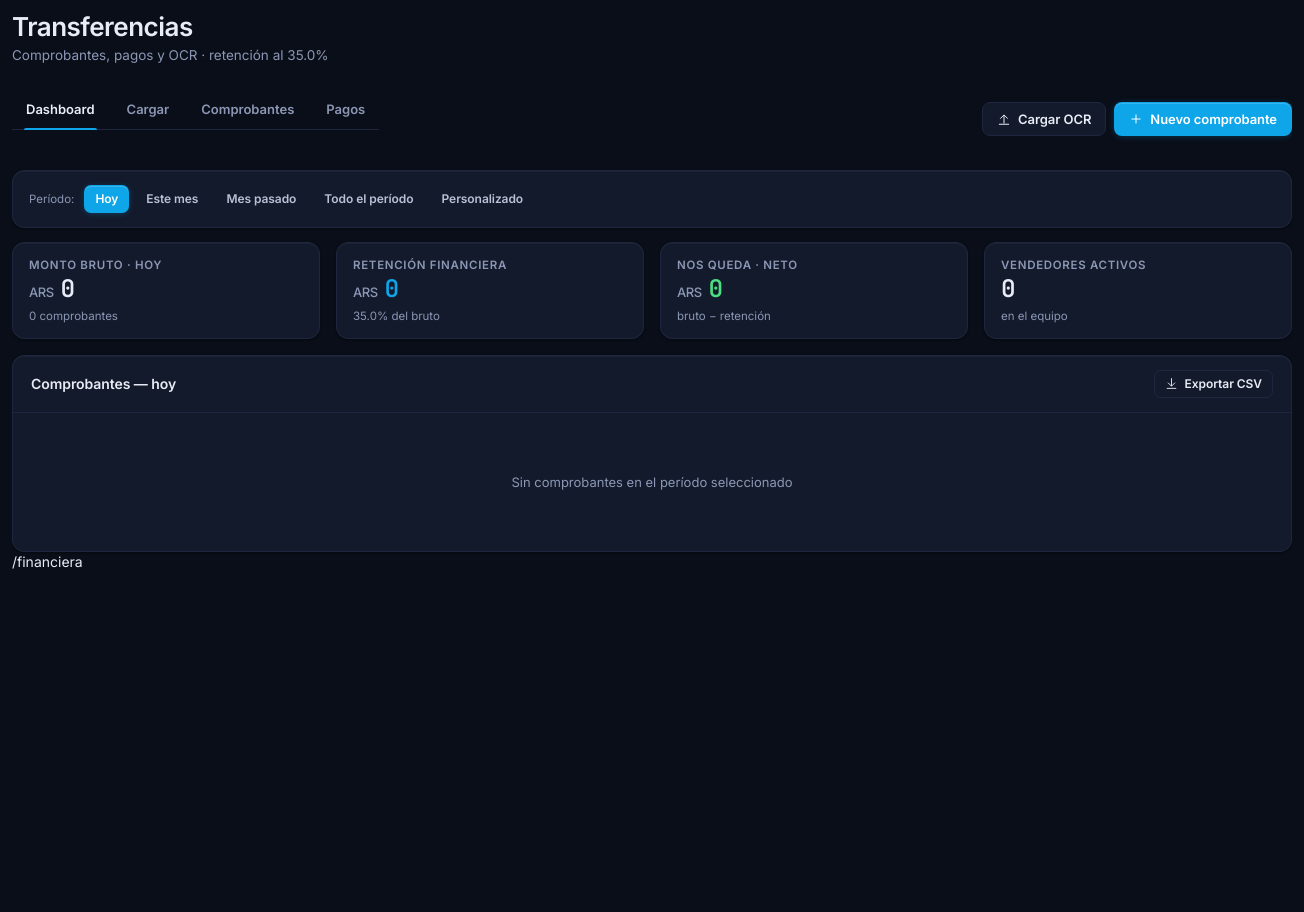
Test: Financiera — form Pagos (TANDAs 1-3 sprint USD) › F-09 — tab + filtros persisten en URL › cambiar a tab Pagos escribe ?tab=pagos en URL
Click the button "Pagos": (346, 109) [312,89,379,129]
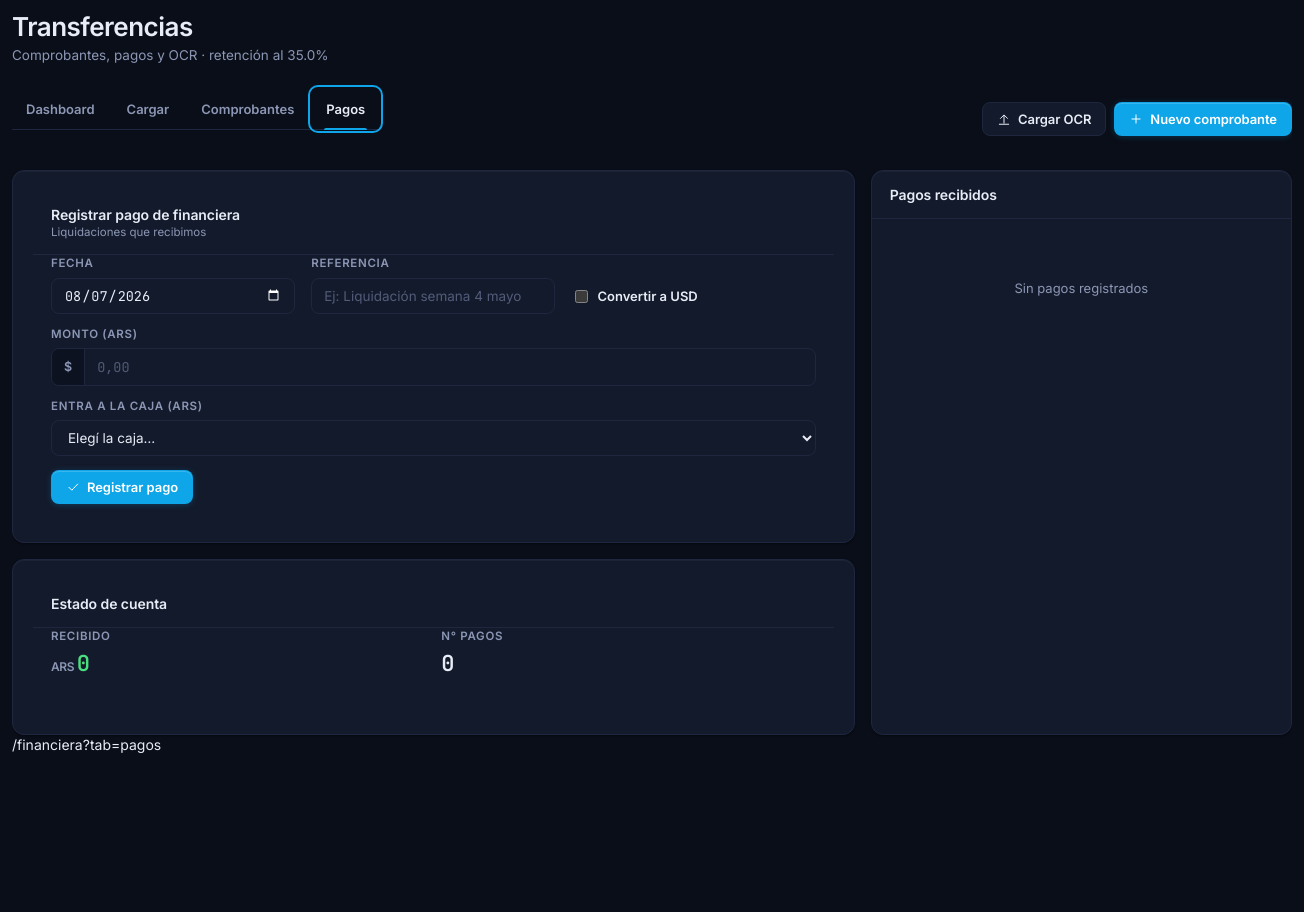
expect the text with test id "location" reads "/financiera?tab=pagos": met, box [83,736,161,753]
